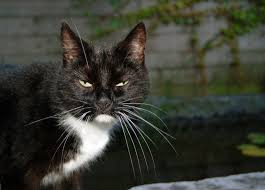cat: (48, 18, 160, 137)
